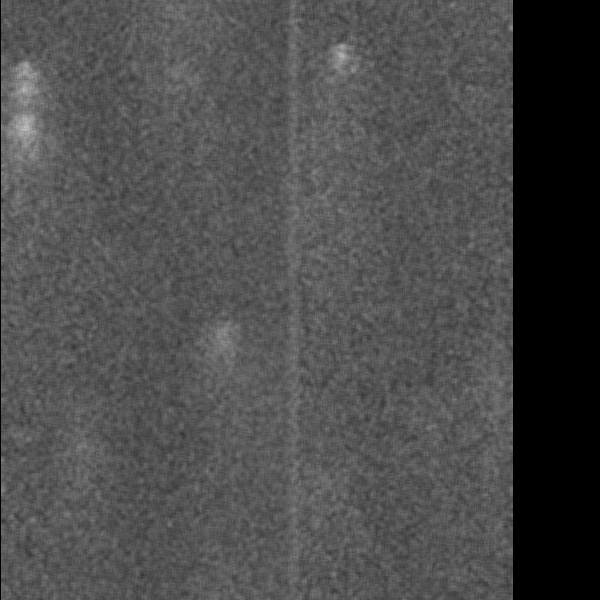spark: (1, 42, 40, 208), (199, 312, 241, 397), (325, 35, 358, 89)
